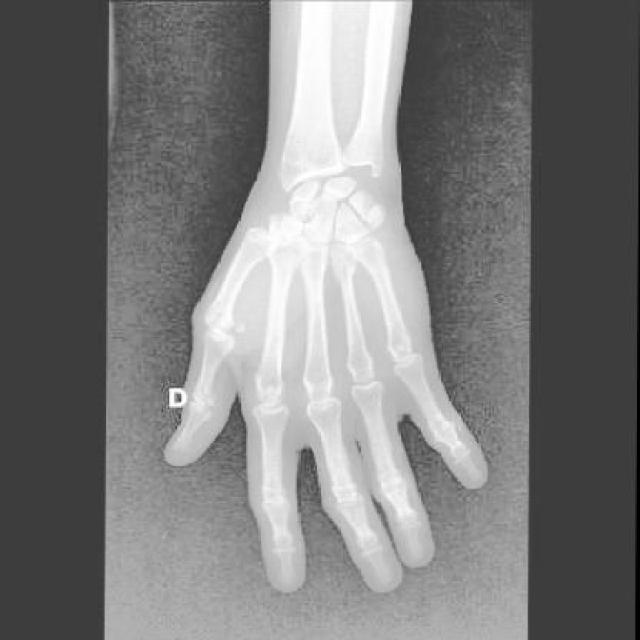Fracture: (268, 200, 308, 229)
